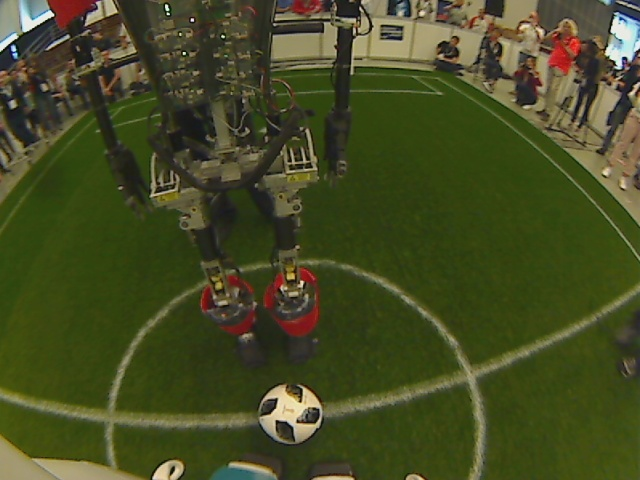ball: (253, 380, 325, 447)
goalpost: (346, 59, 359, 79)
robot: (199, 300, 328, 366)
